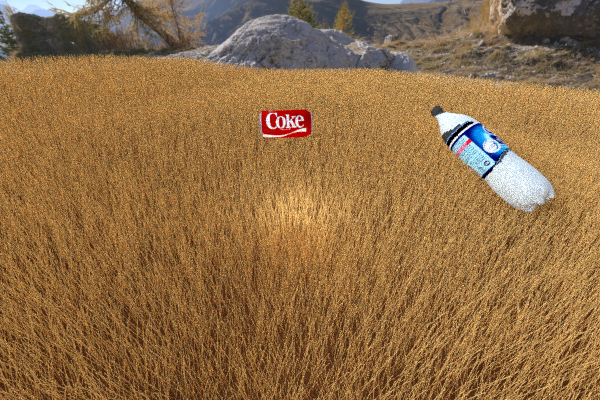bottle: (429, 105, 552, 211)
can: (414, 96, 449, 124)
